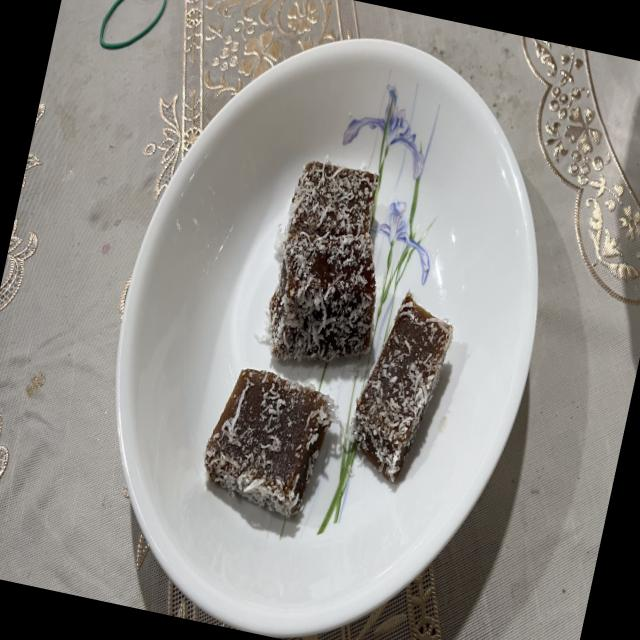kaswi: (204, 368, 334, 517), (351, 291, 452, 481), (269, 231, 375, 362), (288, 160, 377, 237)
